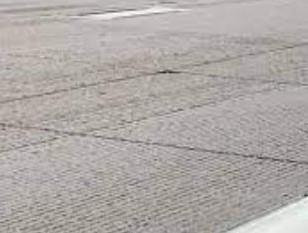crack: (0, 118, 308, 170), (1, 62, 168, 107), (170, 37, 307, 70), (170, 68, 306, 90)
pothole: (73, 2, 188, 22)
